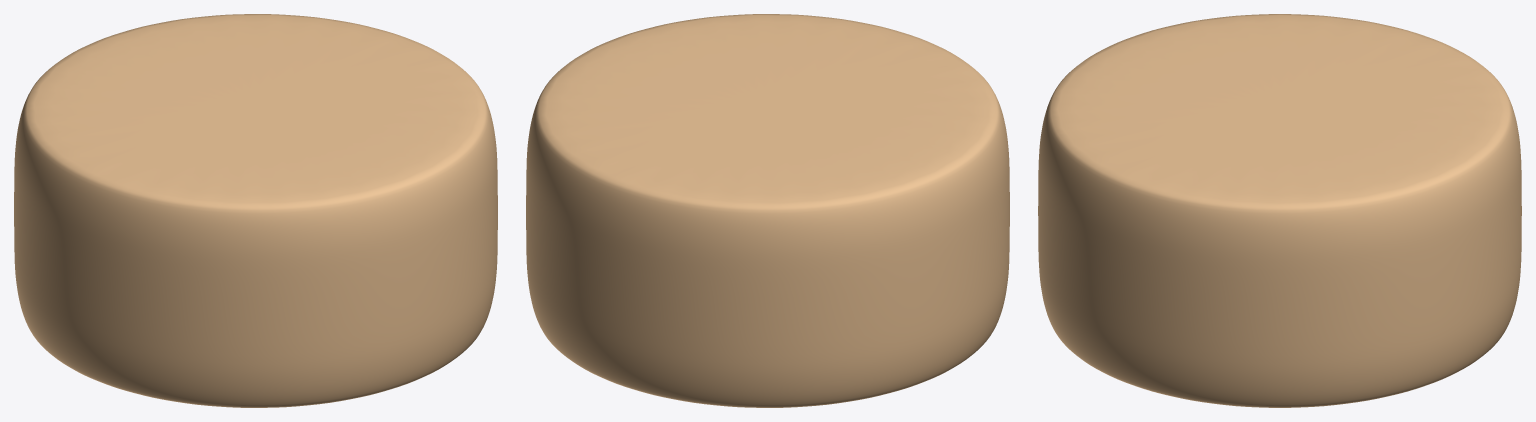
Rendered from CakeBigLayerGlaze.glb.
The picture shows the model from 3 angles, left to right: view 1: azimuth 30°, elevation 25°; view 2: azimuth 150°, elevation 25°; view 3: azimuth 270°, elevation 25°; orthographic projection.
Visible parts, largest first — view 1: Cylinder.010; view 2: Cylinder.010; view 3: Cylinder.010.
Boxes of the visible parts, box(x1,y1,x2,y2) form: Cylinder.010: box(14, 14, 497, 407); Cylinder.010: box(526, 14, 1009, 407); Cylinder.010: box(1038, 14, 1521, 407).
Bounding box in the file's own units: 1.99 × 0.9471 × 1.99.
